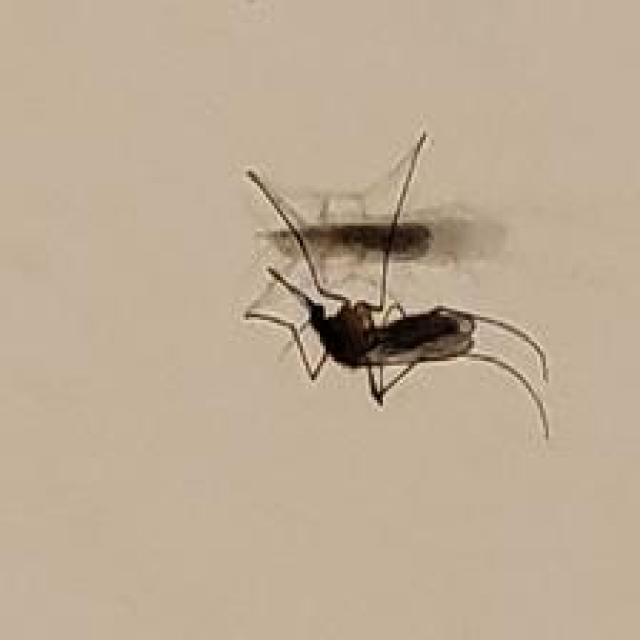Culex: (240, 130, 551, 441)
